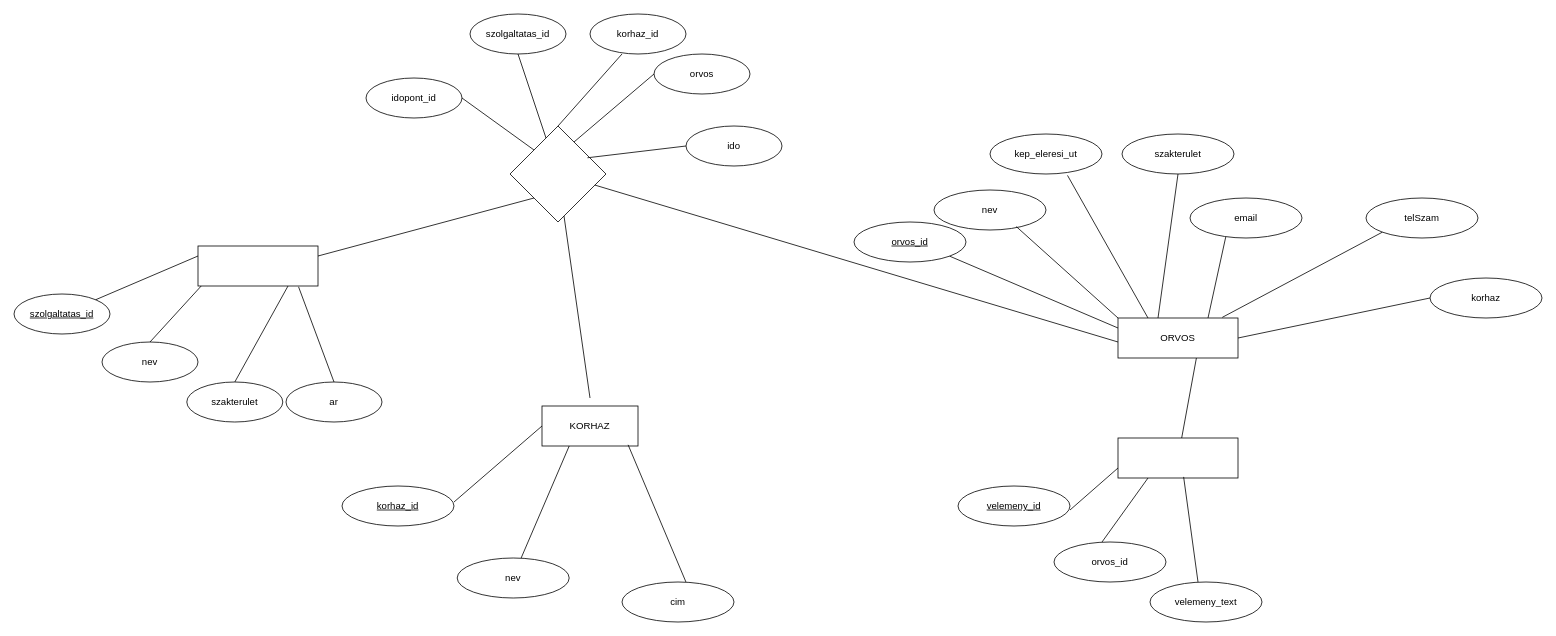
This 1556x636 diagram has some shape labels left out. Each missing label, with the centre of its shape:
"IDOPONT" goes at (x=557, y=173).
"SZOLGALTATAS" goes at (x=257, y=265).
"VELEMENY" goes at (x=1177, y=457).
